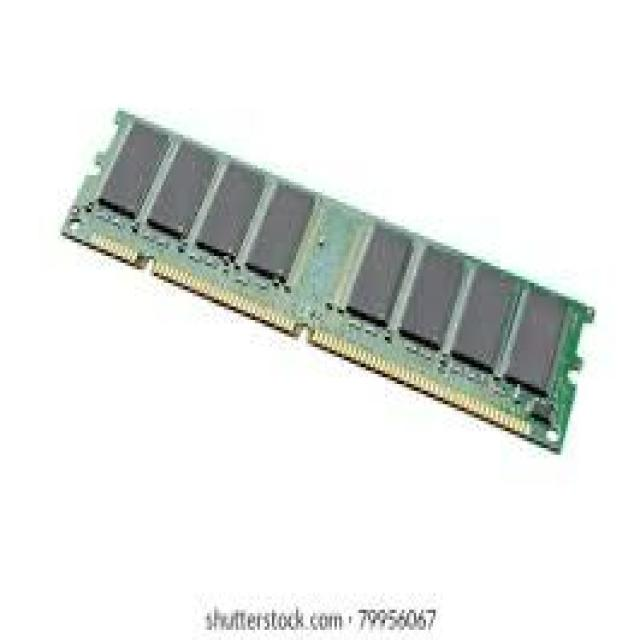Ram: (73, 93, 602, 499)
